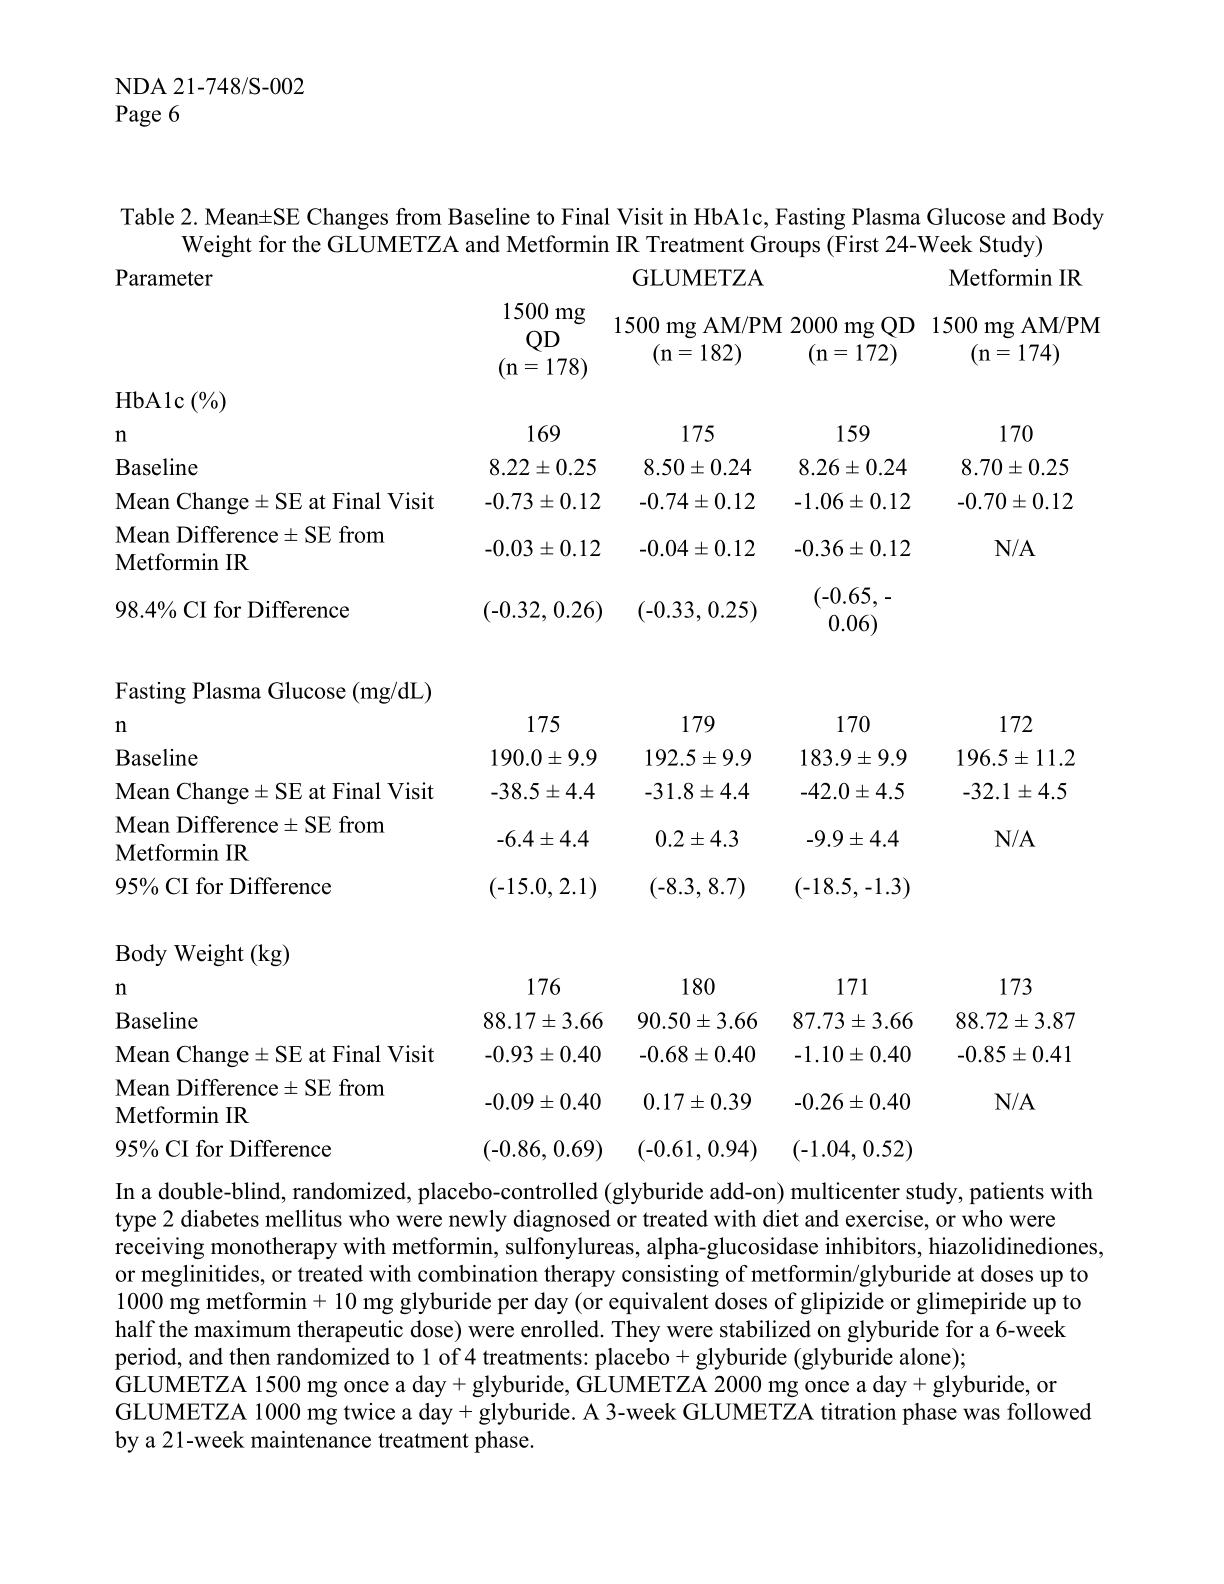nolines: (111, 265, 1103, 1160)
